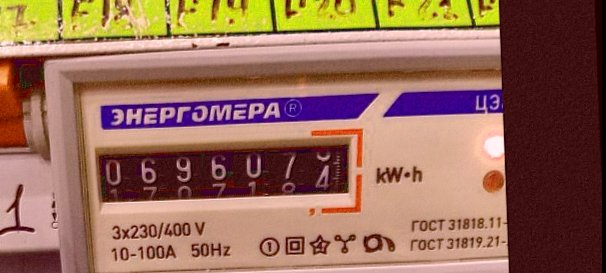0: (102, 157, 124, 187), (244, 150, 264, 180)
4: (311, 163, 331, 192)
6: (208, 152, 229, 183), (138, 155, 158, 185)
7: (279, 148, 298, 180)
9: (173, 154, 194, 184)
screen: (83, 121, 369, 224)
